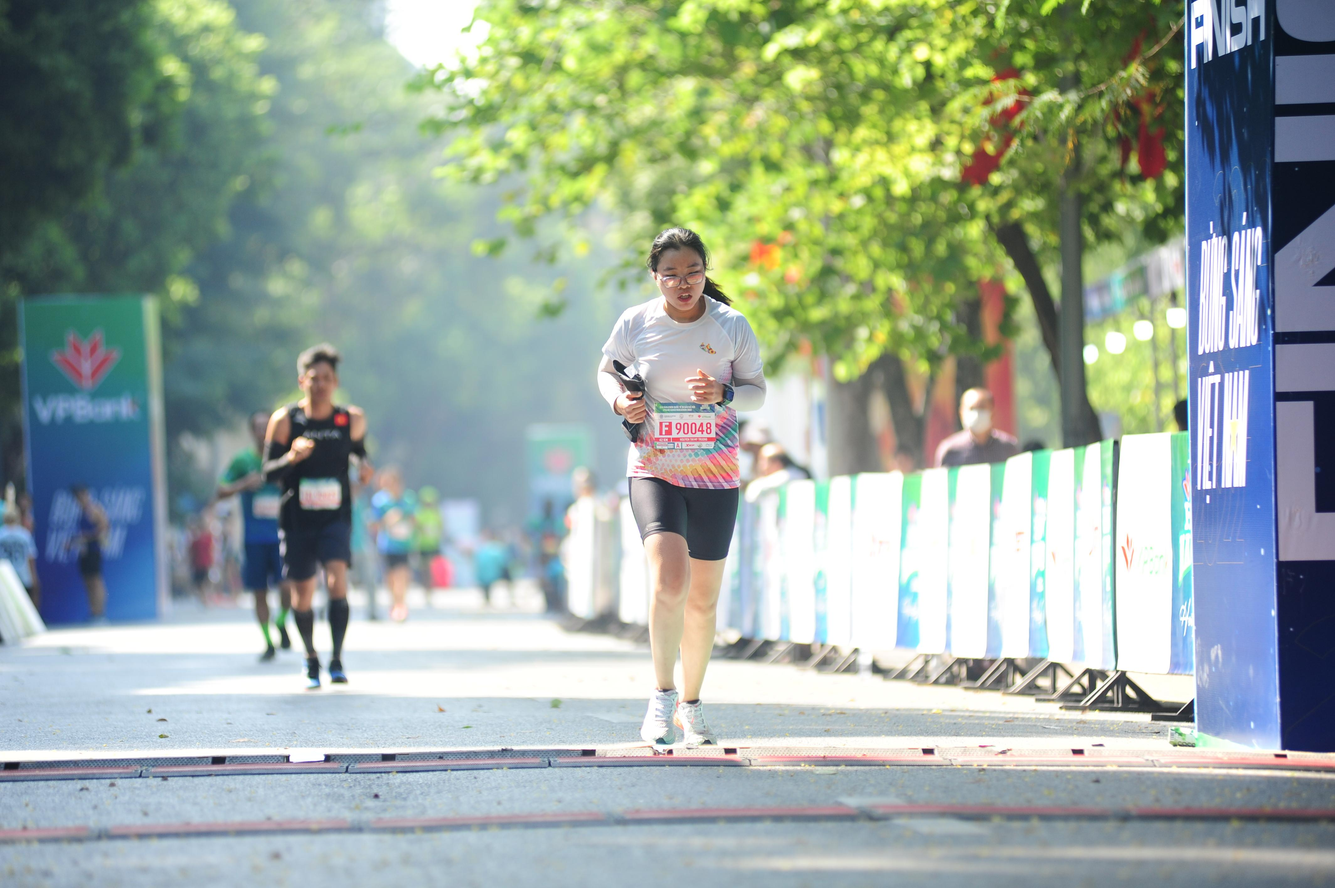bib: (655, 401, 717, 448), (298, 477, 342, 510), (254, 494, 279, 519)
